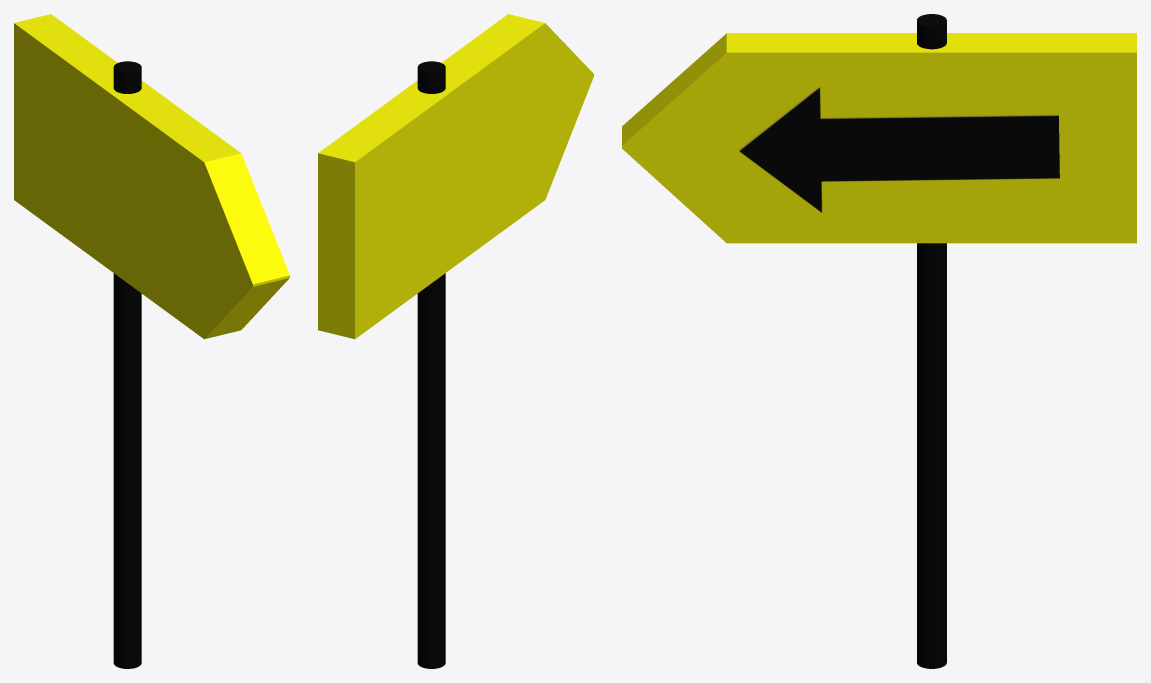
The model's file is direction sign.glb.
3 renders of one model, left to right at view 1: azimuth 30°, elevation 25°; view 2: azimuth 150°, elevation 25°; view 3: azimuth 270°, elevation 25°, orthographic. The views are drawn at different scales.
Parts seen in each view (by area): view 1: Cube, Cylinder; view 2: Cube, Cylinder; view 3: Cube, Black_Right_Arrow, Cylinder.
Part boxes in pixels (x1=…): Cube: x1=14, y1=14, x2=289, y2=339; Cylinder: x1=113, y1=61, x2=141, y2=668; Cube: x1=318, y1=14, x2=593, y2=339; Cylinder: x1=417, y1=61, x2=445, y2=668; Cube: x1=622, y1=33, x2=1136, y2=243; Black_Right_Arrow: x1=739, y1=87, x2=1059, y2=212; Cylinder: x1=917, y1=14, x2=946, y2=668.
Bounding box in the file's own units: 3.38 × 47.1 × 34.22.
3 materials, 1 textured.
